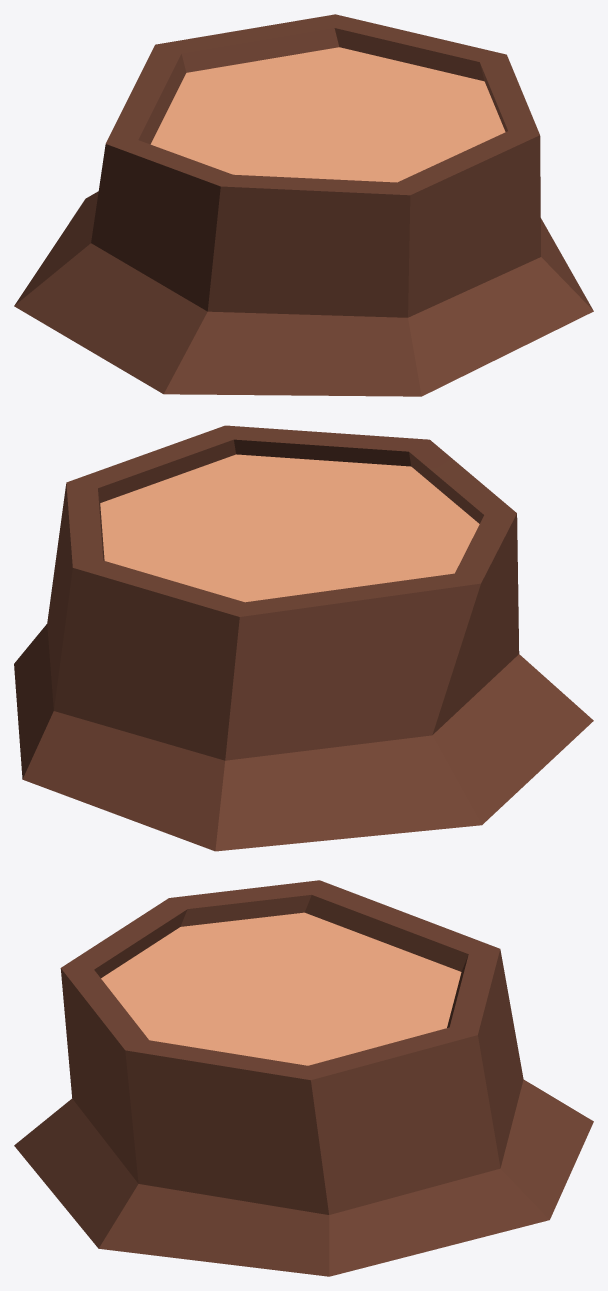
File: wooden_stick4.fbx
3 views of the same model, one above another, from view 1: azimuth 30°, elevation 25°; view 2: azimuth 150°, elevation 25°; view 3: azimuth 270°, elevation 25° (orthographic). The views are drawn at different scales.
Visible parts, largest first — view 1: wooden_stick4; view 2: wooden_stick4; view 3: wooden_stick4.
Part boxes in pixels (x1,y1,x2,y2): wooden_stick4: (14,14,593,396); wooden_stick4: (14,425,593,851); wooden_stick4: (14,880,593,1276).
Bounding box in the file's own units: 1.44 × 0.5316 × 1.48.
